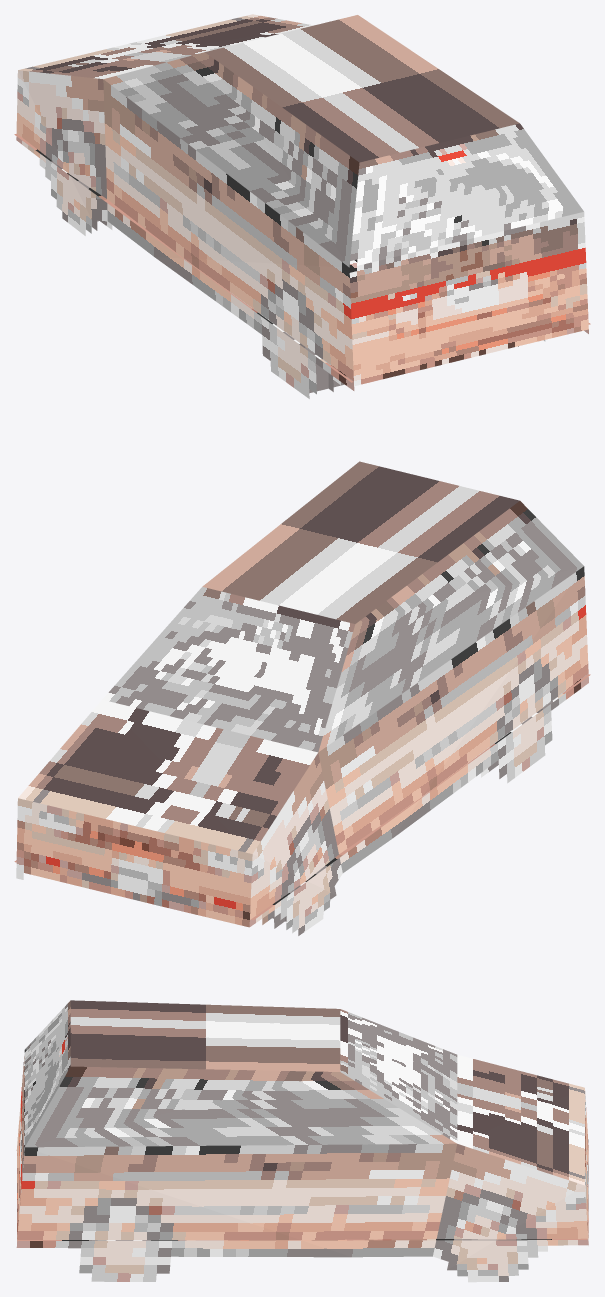
Rendered from car-axxess.glb.
3 views of the same model, one above another, from view 1: azimuth 30°, elevation 25°; view 2: azimuth 150°, elevation 25°; view 3: azimuth 270°, elevation 25° (orthographic). The views are drawn at different scales.
Visible parts, largest first — view 1: car-axxess; view 2: car-axxess; view 3: car-axxess.
Boxes of the visible parts, bbox=[...] form: car-axxess: bbox=[14, 14, 590, 398]; car-axxess: bbox=[14, 461, 590, 935]; car-axxess: bbox=[16, 1000, 588, 1282].
Size of the model in its own units: 1.52 by 1.43 by 3.74.
13 materials, 13 textured.
